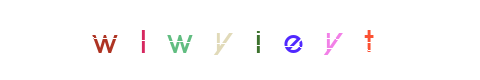E: (218, 0, 298, 80)
I: (200, 0, 280, 80)
L: (139, 0, 219, 80)
T: (281, 0, 361, 80)
W: (64, 0, 144, 80), (178, 0, 258, 80)
Y: (180, 0, 260, 80), (253, 0, 333, 80)
